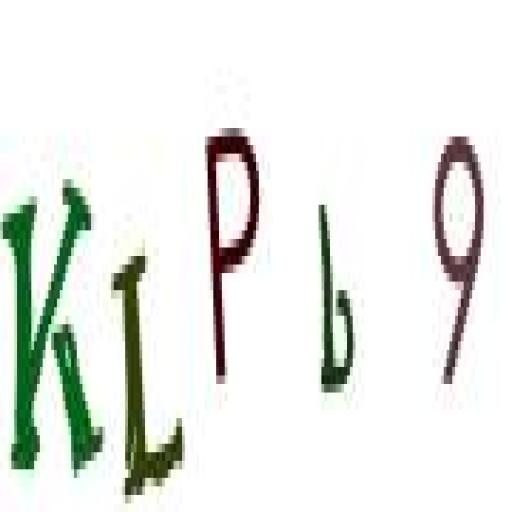9: (430, 114, 496, 402)
K: (0, 168, 106, 487)
L: (109, 233, 188, 512)
P: (203, 113, 266, 411)
b: (314, 188, 359, 404)
